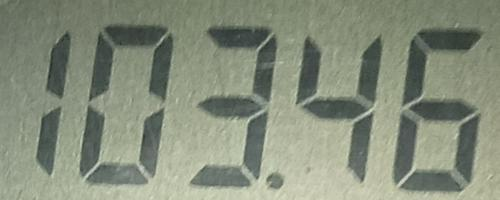.: (263, 171, 286, 190)
